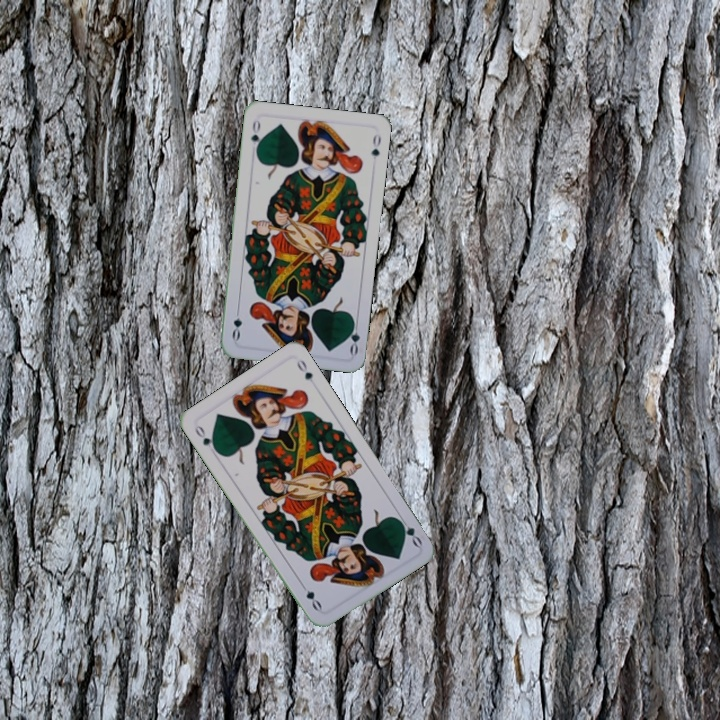GO: (393, 512, 425, 550), (191, 421, 221, 458), (344, 316, 362, 357), (247, 116, 264, 156)
